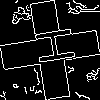H: (25, 25, 76, 68)
